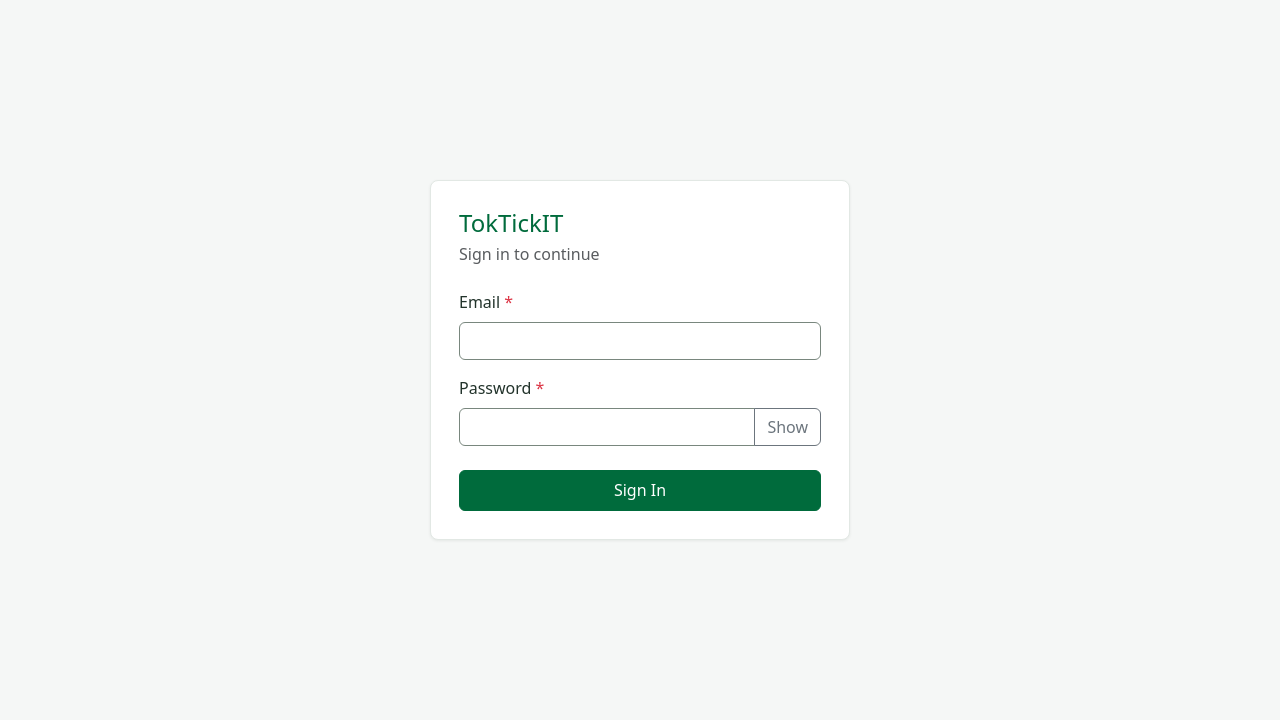
Test: expired Staff dashboard and action-list sessions › continues from /dashboard/staff?status=OPEN through login after AUTH_REQUIRED
Expected: the element with test id "login-card" is shown, [430,180,850,540]
In the field labelled "Email *": (640, 341) [459,322,821,360], type "staff@example.com"
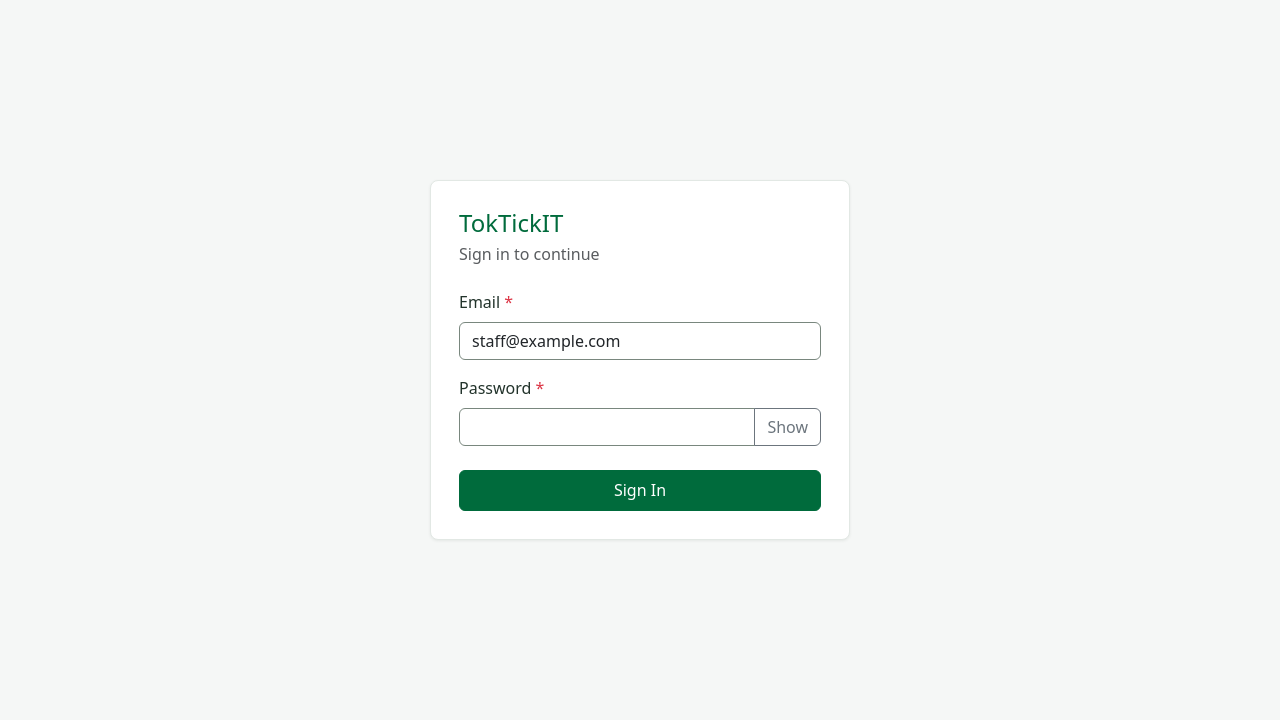
In the password field labelled "Password *": (607, 427) [459,408,755,446], type "password"
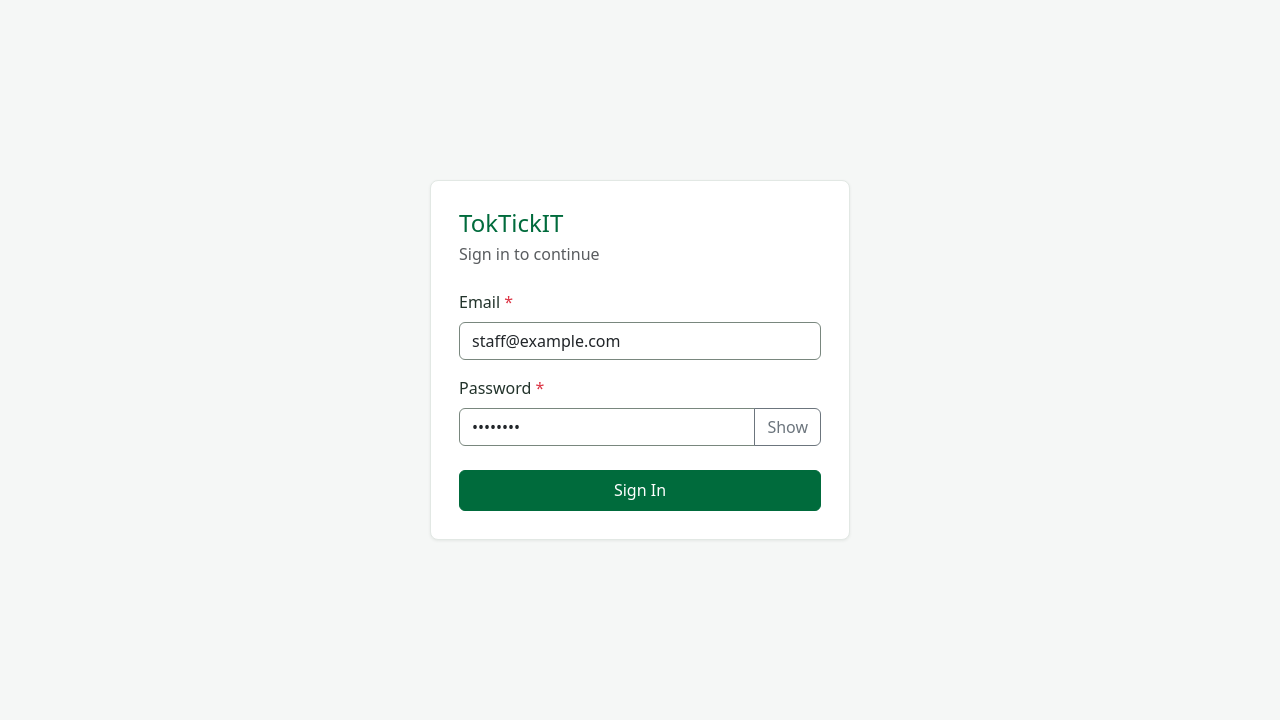
Click the button "Sign In": (640, 490) [459,470,821,511]
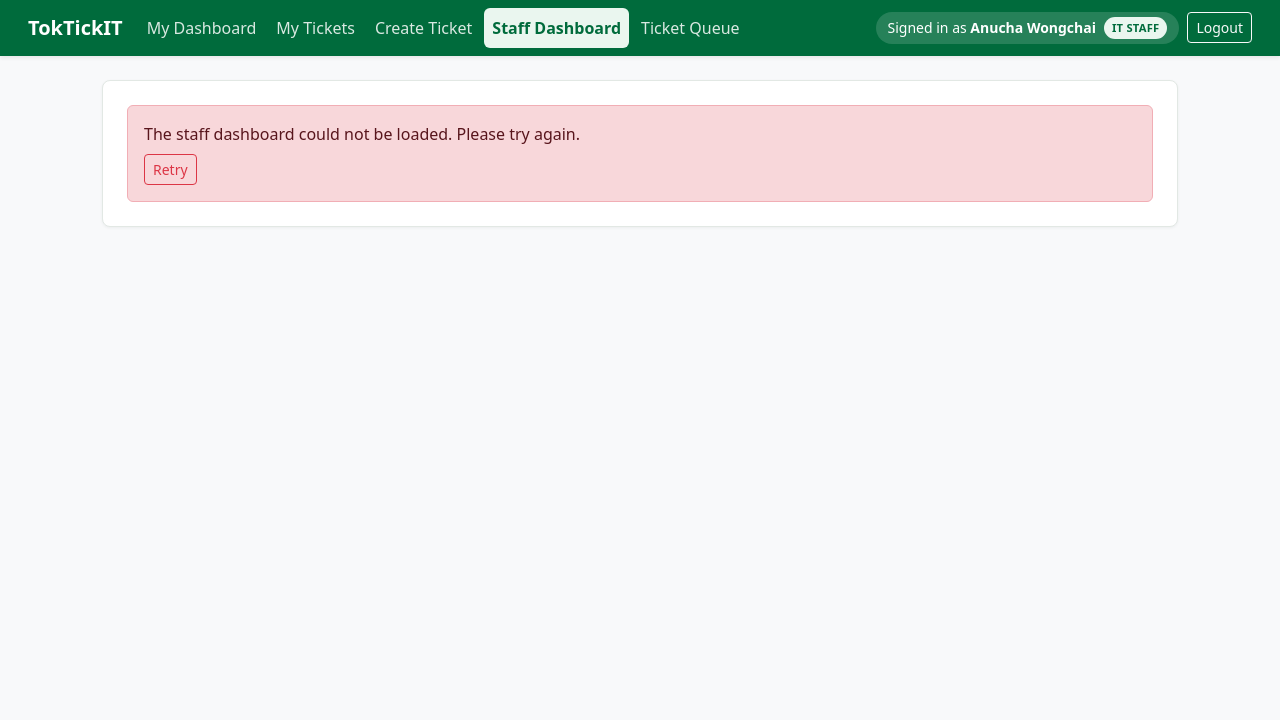
Expected: the element with test id "staff-dashboard-failure" is shown, [102,80,1178,227]
